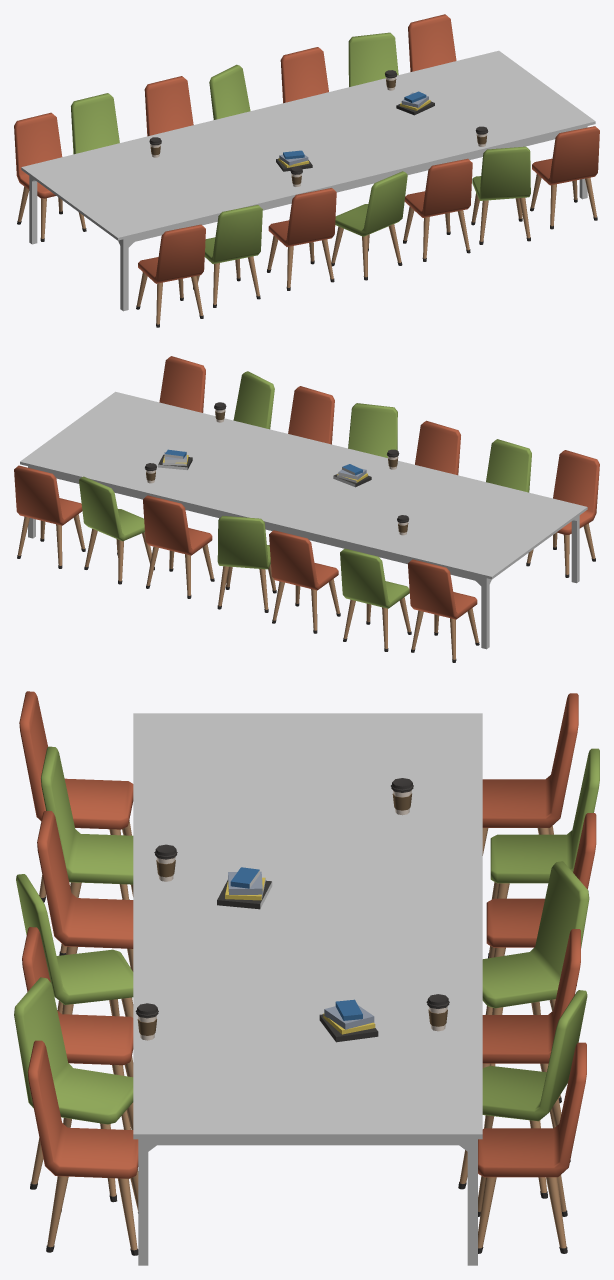
File: Group_table_04.FBX
3 views of the same model, one above another, from view 1: azimuth 30°, elevation 25°; view 2: azimuth 150°, elevation 25°; view 3: azimuth 270°, elevation 25° (orthographic). The views are drawn at different scales.
Visible parts, largest first — view 1: table_01, chair_10, chair_08, chair_13, chair_14, chair_12, chair_11, chair_09, chair_01, chair_02, chair_03, chair_06 (+5 smaller); view 2: table_01, chair_03, chair_07, chair_02, chair_05, chair_01, chair_04, chair_08, chair_06, chair_11, chair_13, chair_14 (+5 smaller); view 3: table_01, chair_14, chair_12, chair_07, chair_04, chair_06, chair_10, chair_11, chair_01, chair_08, chair_09, chair_02 (+5 smaller).
Part boxes in pixels (x1=…): table_01: x1=21, y1=50, x2=595, y2=311; chair_10: x1=267, y1=188, x2=336, y2=290; chair_08: x1=136, y1=224, x2=205, y2=327; chair_13: x1=403, y1=158, x2=472, y2=261; chair_14: x1=530, y1=126, x2=599, y2=229; chair_12: x1=471, y1=146, x2=530, y2=244; chair_11: x1=331, y1=171, x2=407, y2=280; chair_09: x1=193, y1=205, x2=262, y2=307; chair_01: x1=14, y1=112, x2=86, y2=241; chair_02: x1=71, y1=93, x2=119, y2=154; chair_03: x1=144, y1=76, x2=193, y2=136; chair_06: x1=348, y1=32, x2=398, y2=86; table_01: x1=20, y1=391, x2=587, y2=649; chair_03: x1=269, y1=530, x2=340, y2=633; chair_07: x1=14, y1=465, x2=85, y2=568; chair_02: x1=340, y1=548, x2=411, y2=651; chair_05: x1=143, y1=495, x2=214, y2=598; chair_01: x1=408, y1=559, x2=479, y2=662; chair_04: x1=217, y1=515, x2=276, y2=612; chair_08: x1=526, y1=450, x2=599, y2=577; chair_06: x1=79, y1=476, x2=154, y2=584; chair_11: x1=348, y1=403, x2=397, y2=457; chair_13: x1=288, y1=386, x2=334, y2=444; chair_14: x1=159, y1=356, x2=205, y2=412; table_01: x1=133, y1=713, x2=482, y2=1265; chair_14: x1=27, y1=1040, x2=138, y2=1255; chair_12: x1=14, y1=977, x2=133, y2=1202; chair_07: x1=478, y1=1042, x2=586, y2=1253; chair_04: x1=482, y1=861, x2=589, y2=1066; chair_06: x1=458, y1=990, x2=587, y2=1198; chair_10: x1=37, y1=811, x2=133, y2=1013; chair_11: x1=16, y1=874, x2=133, y2=1017; chair_01: x1=482, y1=693, x2=578, y2=855; chair_08: x1=19, y1=691, x2=133, y2=902; chair_09: x1=41, y1=746, x2=133, y2=955; chair_02: x1=488, y1=748, x2=599, y2=958.
Size of the model in its own units: 504 by 98.43 by 296.
Materials: 1 (1 with a texture image).
